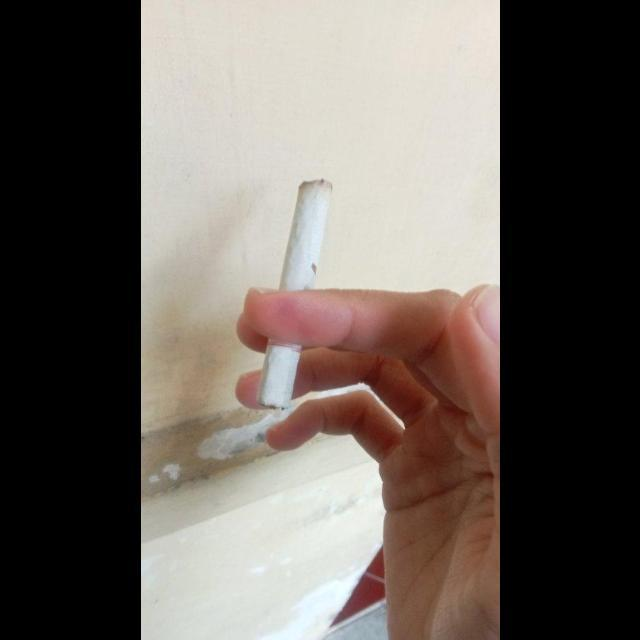rokok: (255, 175, 335, 415)
